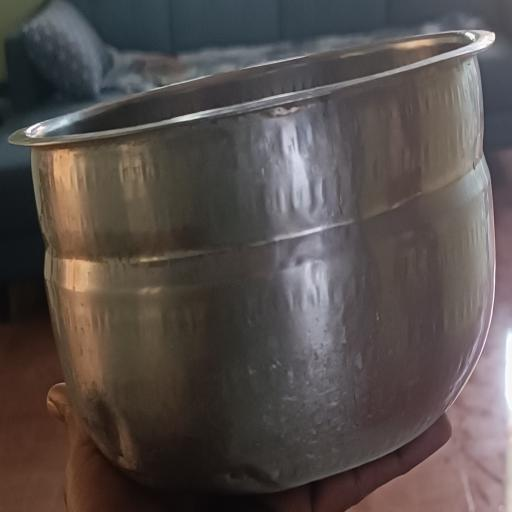vessel: (11, 31, 494, 491)
